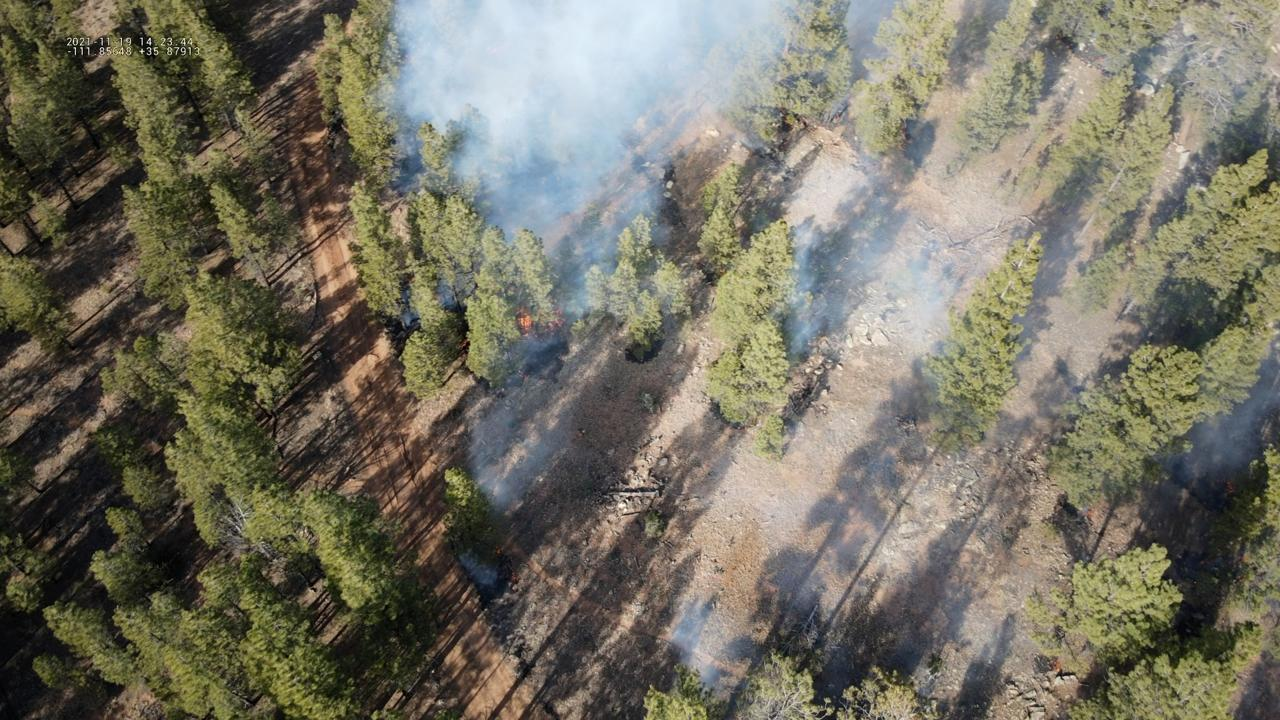fire: (541, 299, 566, 336), (515, 310, 532, 337), (457, 337, 469, 351), (1224, 482, 1234, 497)
smoke: (362, 0, 909, 514), (786, 189, 955, 350), (1159, 382, 1280, 482), (666, 597, 721, 690), (456, 547, 498, 591)
